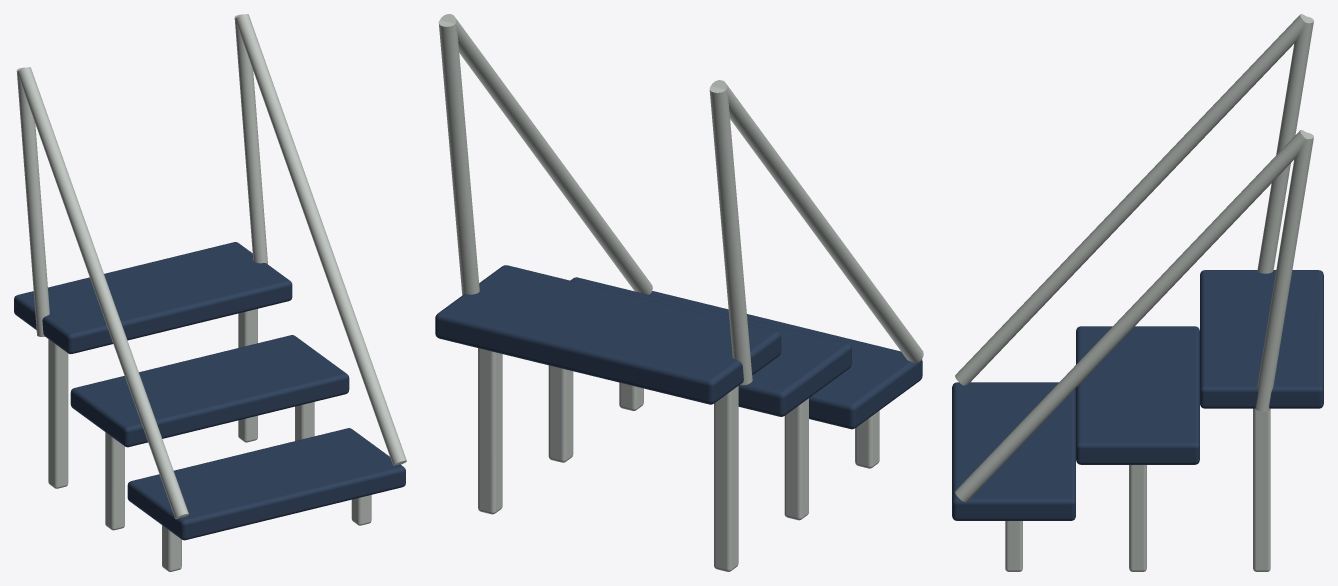
File: planetarium-and-optical-observatory-telescope-access-s-f678ae97__31859.glb
3 views of the same model, side by side, from view 1: azimuth 30°, elevation 25°; view 2: azimuth 150°, elevation 25°; view 3: azimuth 270°, elevation 25° (orthographic). The views are drawn at different scales.
Visible parts, largest first — view 1: telescope-access-stair; view 2: telescope-access-stair; view 3: telescope-access-stair.
Part boxes in pixels (x1=…): telescope-access-stair: x1=14, y1=14, x2=406, y2=571; telescope-access-stair: x1=435, y1=14, x2=923, y2=571; telescope-access-stair: x1=952, y1=14, x2=1323, y2=571.
Size of the model in its own units: 0.656 by 1.11 by 0.84.
